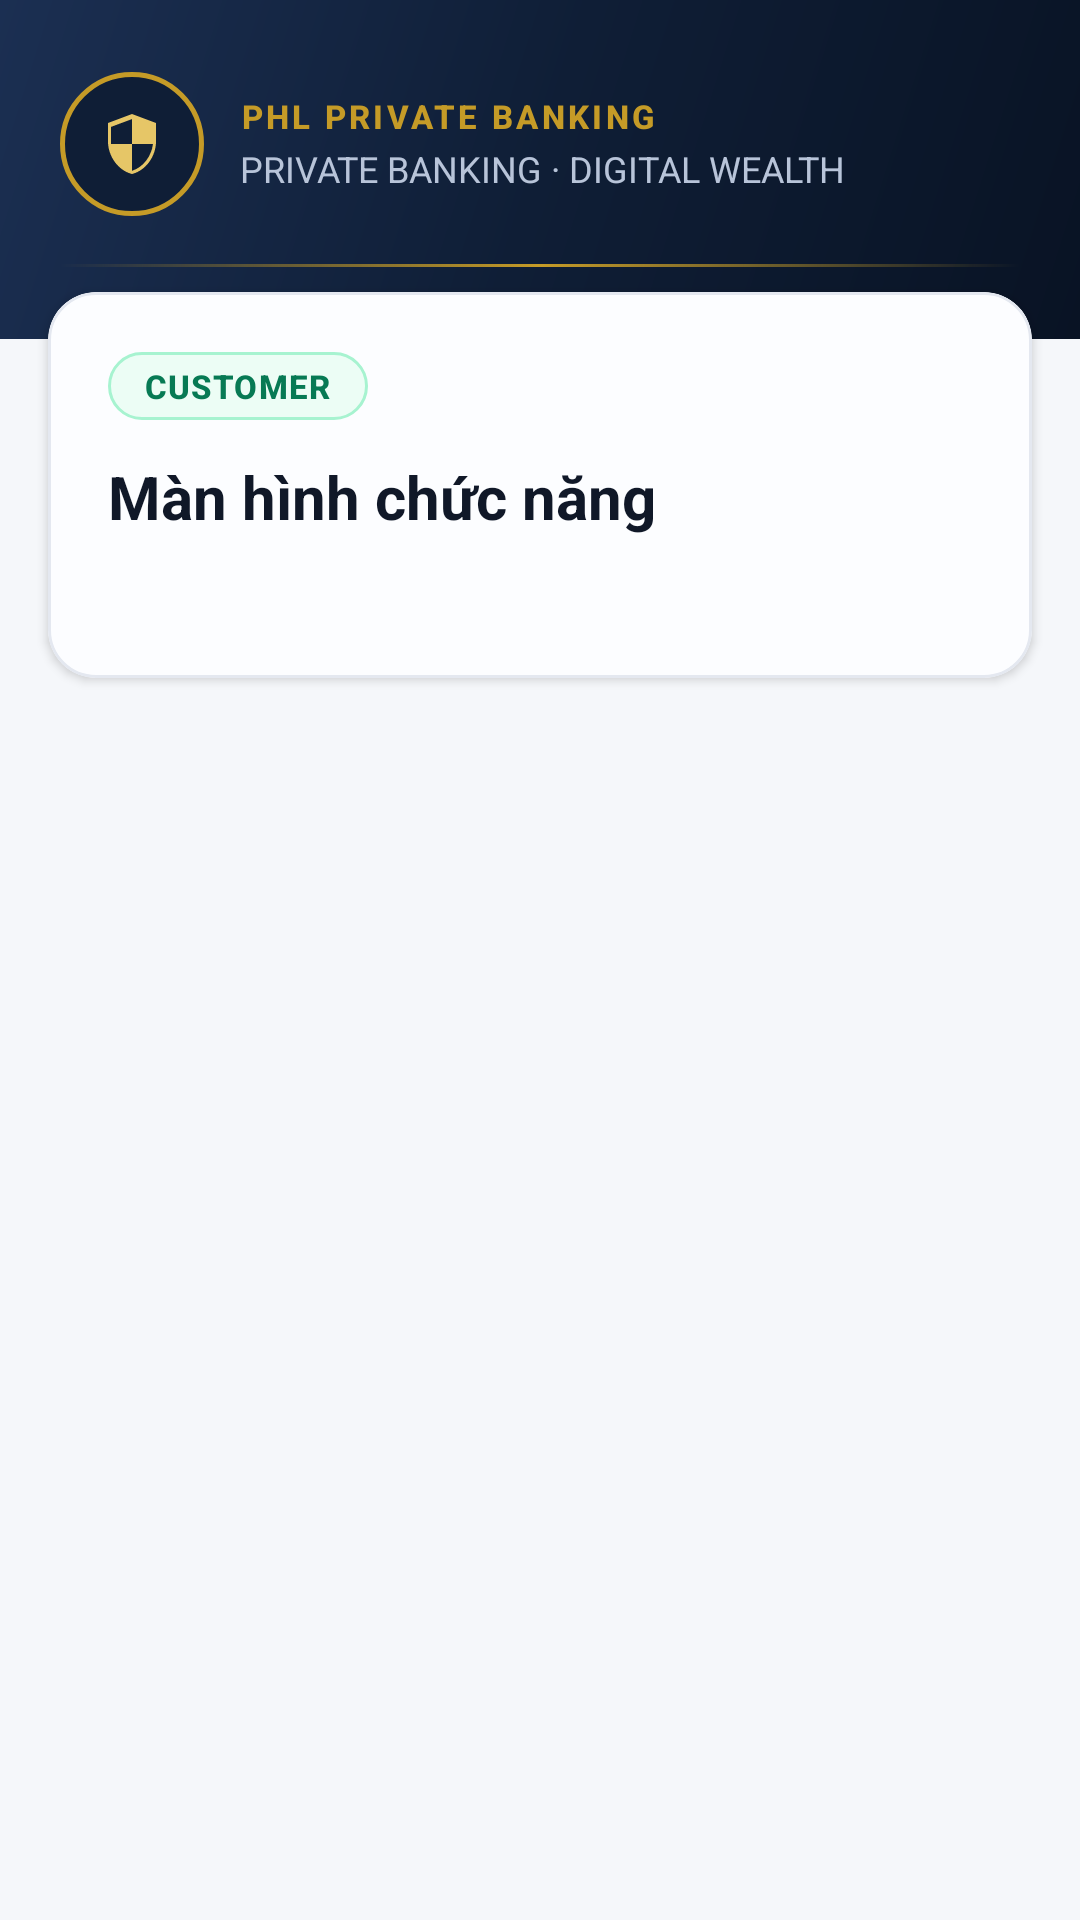

Point at icon controls on the screen. Image size 1080 x 1920, points as point (x, y).
phl shield: point (132, 144)
